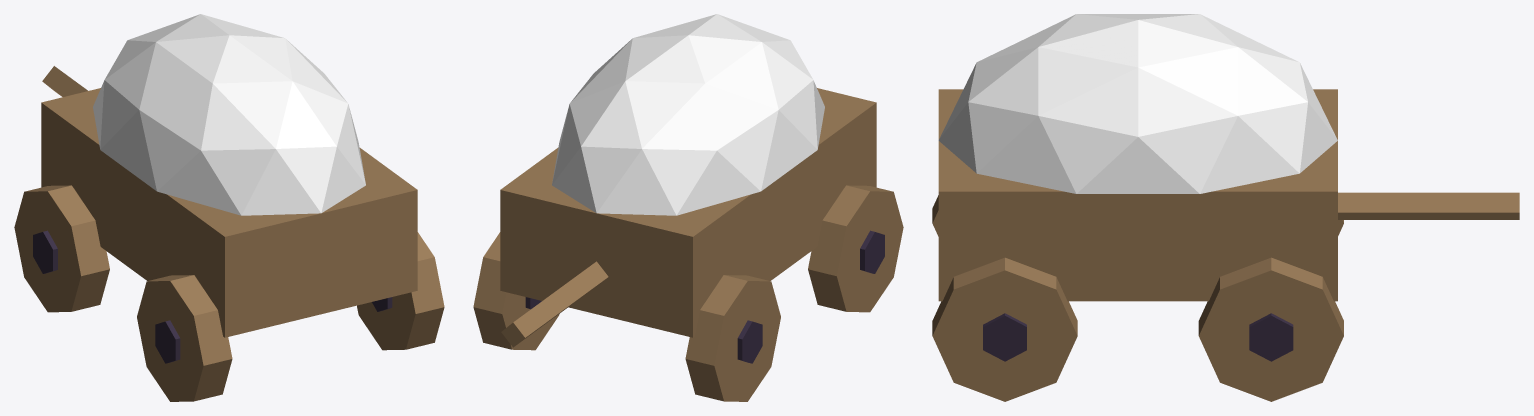
The model's file is wagon.glb.
The picture shows the model from 3 angles, left to right: view 1: azimuth 30°, elevation 25°; view 2: azimuth 150°, elevation 25°; view 3: azimuth 270°, elevation 25°; orthographic projection. The views are drawn at different scales.
Visible parts, largest first — view 1: wildwest-wagon; view 2: wildwest-wagon; view 3: wildwest-wagon.
Boxes of the visible parts, <box> form: wildwest-wagon: <box>14,14,444,401</box>; wildwest-wagon: <box>473,14,903,401</box>; wildwest-wagon: <box>932,14,1519,401</box>.
Bounding box in the file's own units: 0.52 × 0.58 × 0.97.
